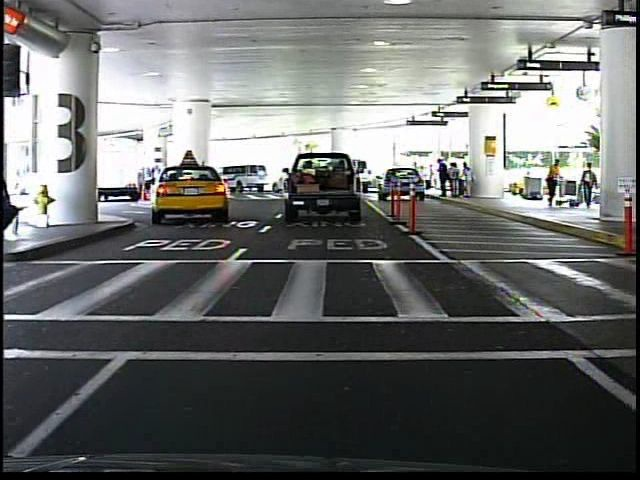person: (542, 154, 565, 210), (580, 159, 598, 212), (410, 160, 424, 192)
